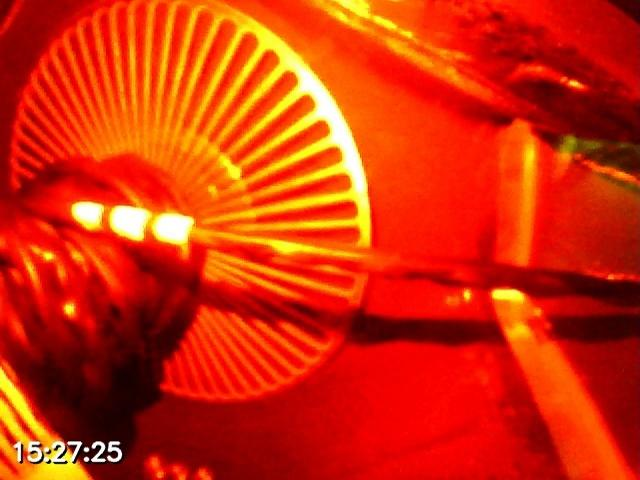white-dots: (70, 201, 194, 247)
